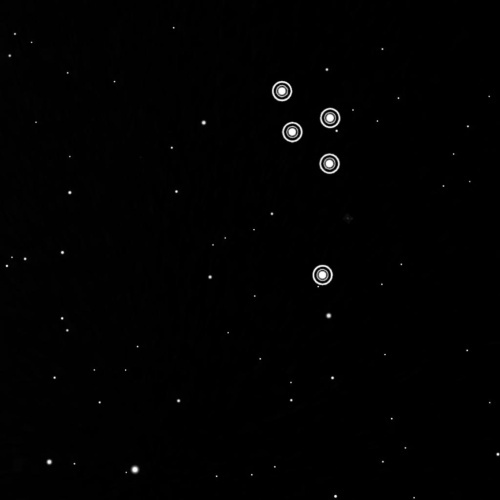delphinus: (265, 73, 344, 292)
